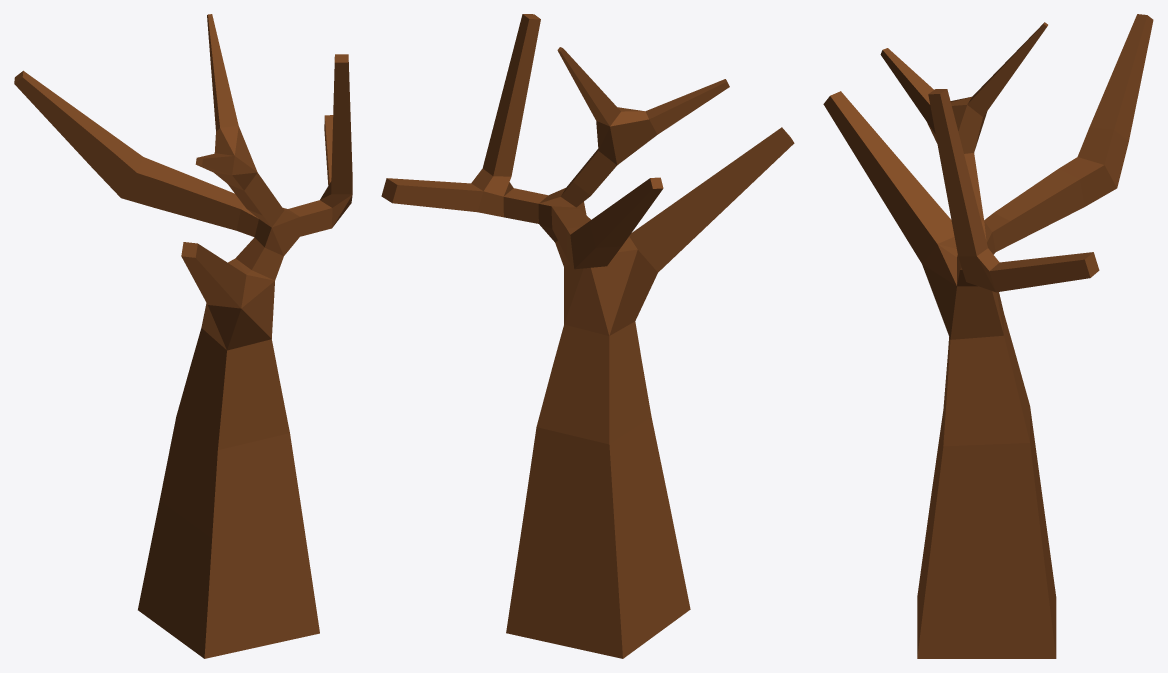
The picture shows the model from 3 angles, left to right: view 1: azimuth 30°, elevation 25°; view 2: azimuth 150°, elevation 25°; view 3: azimuth 270°, elevation 25°; orthographic projection. The views are drawn at different scales.
Parts seen in each view (by area): view 1: 큐브.002; view 2: 큐브.002; view 3: 큐브.002.
Boxes of the visible parts, x1=… form: 큐브.002: x1=14, y1=14, x2=352, y2=658; 큐브.002: x1=381, y1=14, x2=794, y2=658; 큐브.002: x1=823, y1=14, x2=1153, y2=658.
Size of the model in its own units: 1030 by 1898 by 929.
